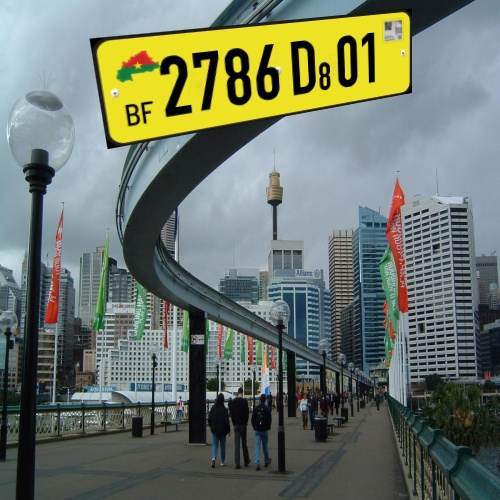plate: (69, 4, 433, 156)
